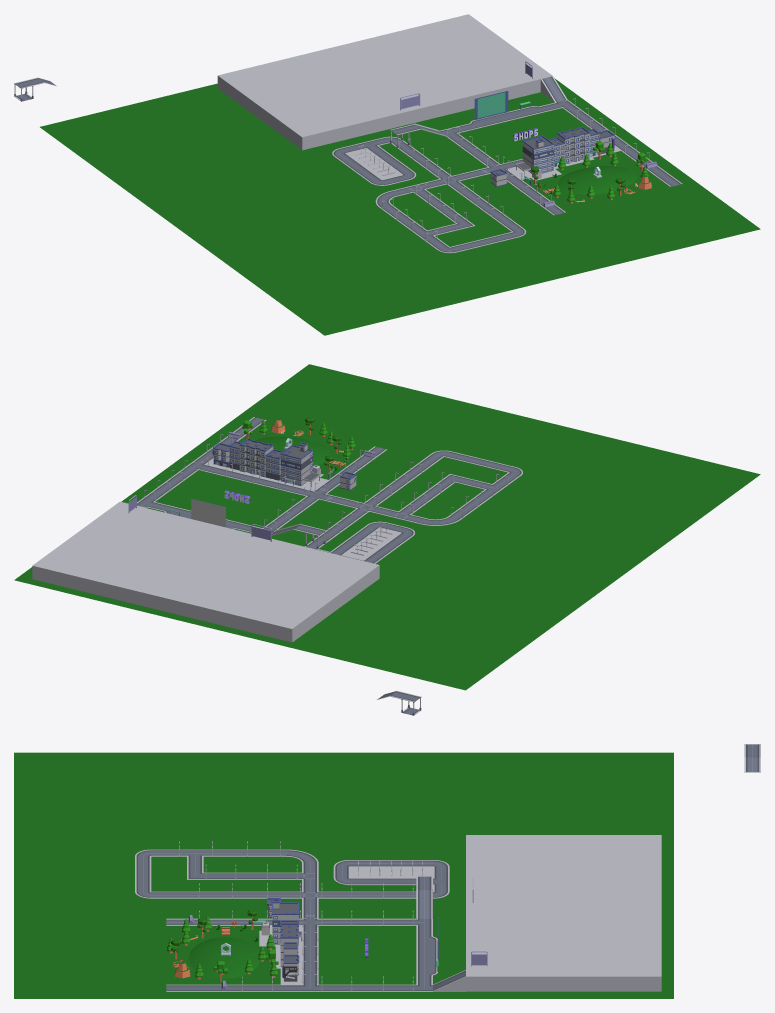
The model's file is map.glb.
3 renders of one model, top to bottom at view 1: azimuth 30°, elevation 25°; view 2: azimuth 150°, elevation 25°; view 3: azimuth 270°, elevation 25°, orthographic. The views are drawn at different scales.
Visible parts, largest first — view 1: ground_grass, tile_high, road_straight (×6), sphere, large_buildingG, large_buildingA, sign_billboard, tile_low; view 2: ground_grass, tile_high, road_straight (×5), large_buildingG, large_buildingA, sign_billboard, tile_low, sphere; view 3: ground_grass, tile_high, road_straight (×12), sphere, tile_low, large_buildingG, road_side, large_buildingA.
Part boxes in pixels (<box>): ground_grass: <box>40,78,760,335</box>; tile_high: <box>217,14,552,150</box>; road_straight (×6): <box>397,133,682,232</box>; sphere: <box>557,166,636,194</box>; large_buildingG: <box>515,135,553,175</box>; large_buildingA: <box>557,126,590,164</box>; sign_billboard: <box>474,91,508,120</box>; tile_low: <box>347,149,401,179</box>; ground_grass: <box>14,364,760,690</box>; tile_high: <box>32,501,379,642</box>; road_straight (×5): <box>142,453,454,531</box>; large_buildingG: <box>280,442,320,486</box>; large_buildingA: <box>239,438,273,477</box>; sign_billboard: <box>191,498,225,527</box>; tile_low: <box>343,528,399,559</box>; sphere: <box>255,436,330,465</box>; ground_grass: <box>14,752,673,998</box>; tile_high: <box>466,835,661,991</box>; road_straight (×12): <box>135,849,432,991</box>; sphere: <box>189,937,259,978</box>; tile_low: <box>350,867,432,877</box>; large_buildingG: <box>272,899,301,944</box>; road_side: <box>416,943,437,968</box>; large_buildingA: <box>280,923,298,966</box>.
Size of the model in its own units: 158 by 17.73 by 203.
